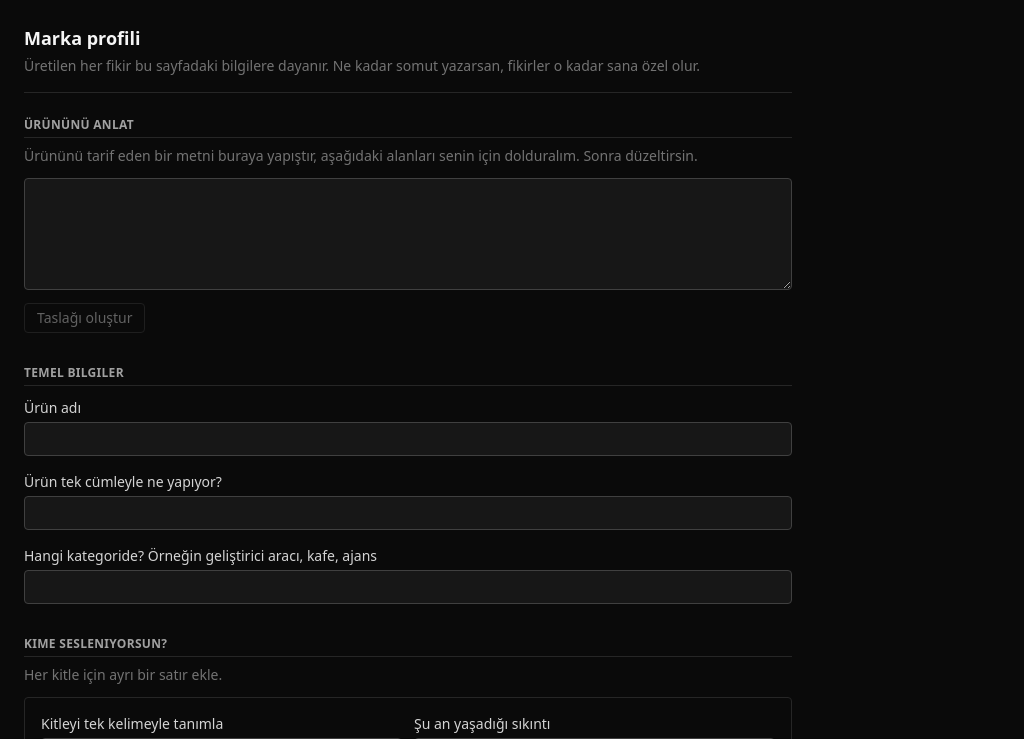
it: loading states › shows a spinner and a busy label while the brand draft runs
Expected: the button "Taslağı oluştur" is disabled, top-left (24, 303), bottom-right (146, 333)
Type "Tek kişilik geliştiriciler için yerel çalışan bir pazarlama aracı." into the text box named "ürününü anlat".
click(408, 234); type("Tek kişilik geliştiriciler için yerel çalışan bir pazarlama aracı.")  # box top-left (24, 178), bottom-right (792, 290)
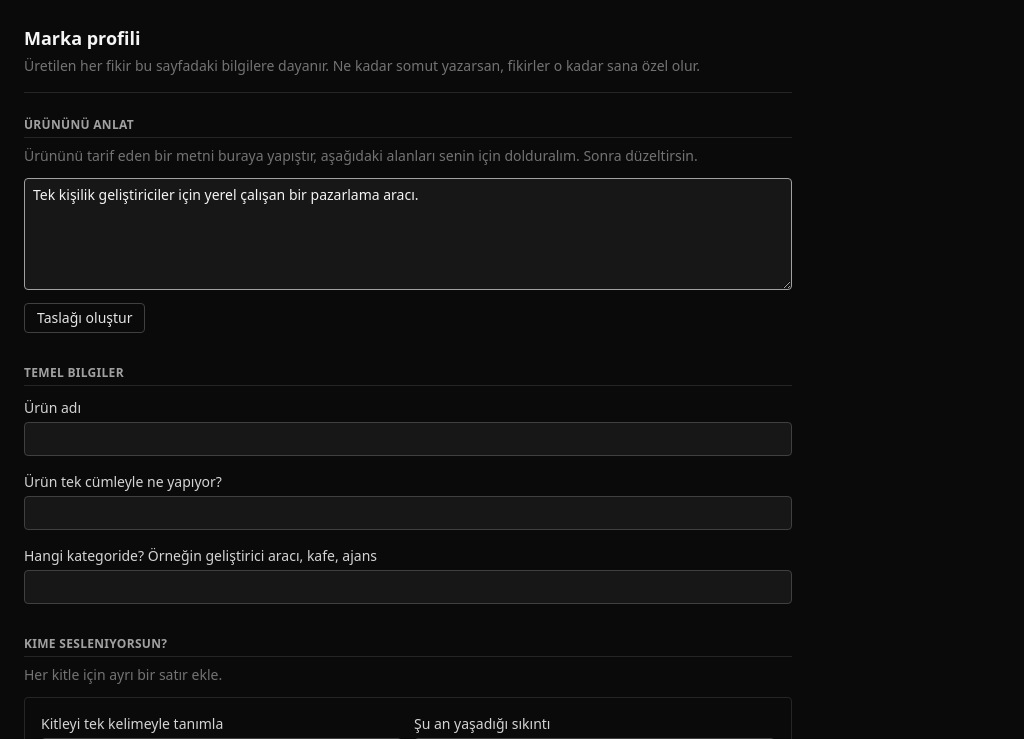
Expected: the button "Taslağı oluştur" is enabled
Click the button "Taslağı oluştur".
click(85, 318)  # box top-left (24, 303), bottom-right (146, 333)
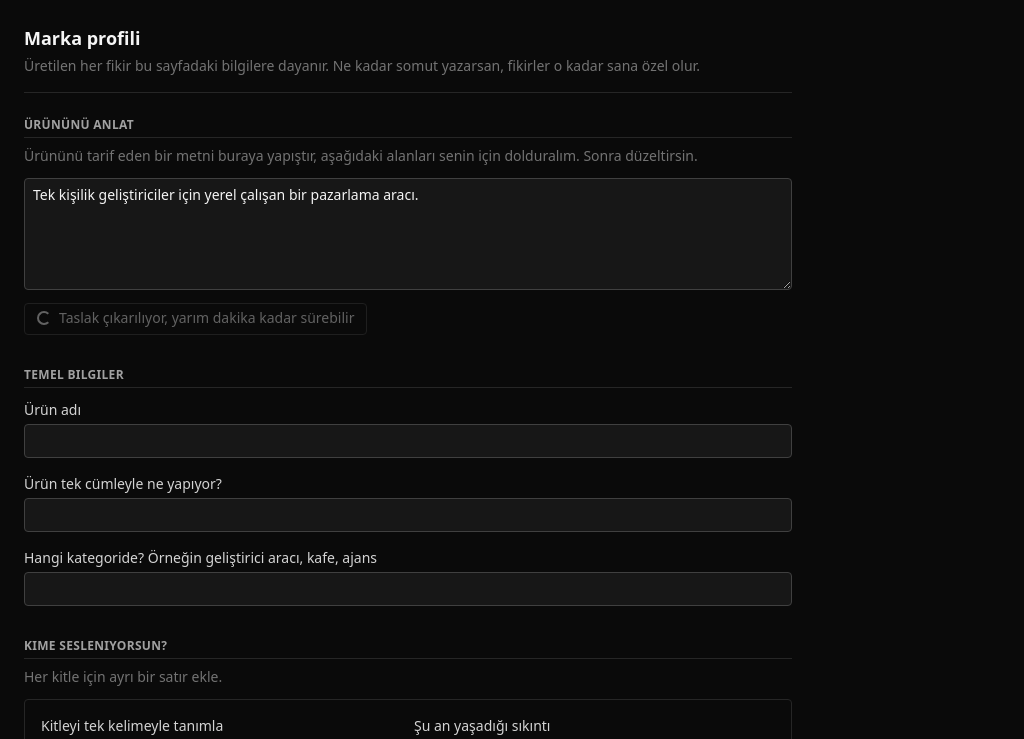
Expected: the text "Taslak çıkarılıyor, yarım dakika kadar sürebilir" is shown, top-left (37, 308), bottom-right (354, 328)
Expected: the message is shown, top-left (37, 311), bottom-right (51, 325)
Expected: the button "Taslak çıkarılıyor, yarım dakika kadar sürebilir" is disabled, top-left (24, 303), bottom-right (368, 335)
